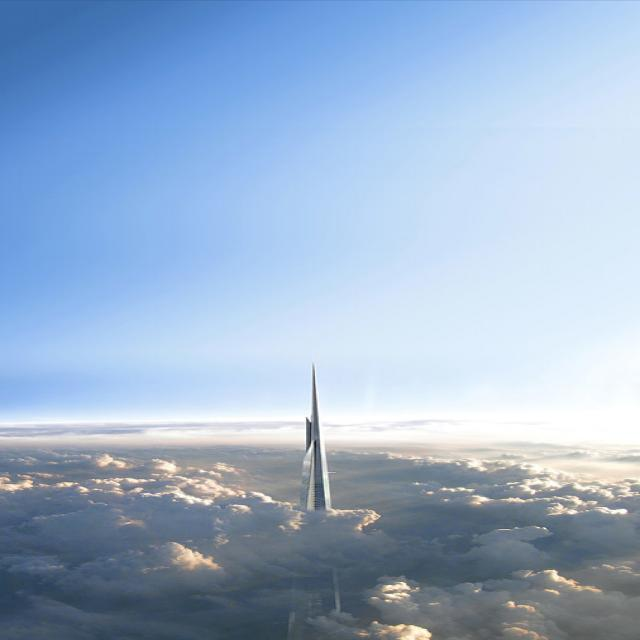Missile: (310, 362, 328, 518)
